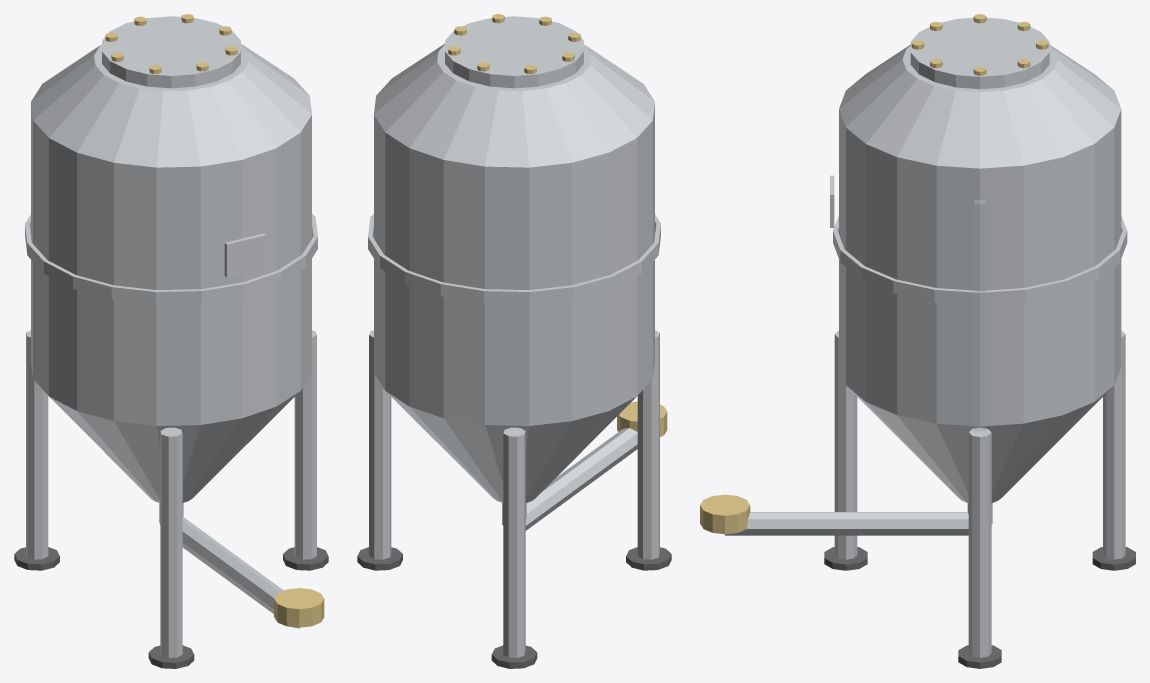
Rendered from distillery-and-bonded-warehouse-yeast-vessel-b319a099__38674.glb.
3 renders of one model, left to right at view 1: azimuth 30°, elevation 25°; view 2: azimuth 150°, elevation 25°; view 3: azimuth 270°, elevation 25°, orthographic.
Parts seen in each view (by area): view 1: yeast-vessel-steel, yeast-vessel-brass, yeast-vessel-iron; view 2: yeast-vessel-steel, yeast-vessel-iron, yeast-vessel-brass; view 3: yeast-vessel-steel, yeast-vessel-glass, yeast-vessel-brass, yeast-vessel-iron.
Part boxes in pixels (left/top/right/bottom): yeast-vessel-steel: left=25, top=16, right=317, bottom=657; yeast-vessel-brass: left=105, top=14, right=324, bottom=627; yeast-vessel-iron: left=14, top=547, right=328, bottom=668; yeast-vessel-steel: left=368, top=16, right=660, bottom=657; yeast-vessel-iron: left=357, top=547, right=671, bottom=668; yeast-vessel-brass: left=448, top=14, right=667, bottom=436; yeast-vessel-steel: left=725, top=17, right=1127, bottom=657; yeast-vessel-glass: left=974, top=199, right=985, bottom=430; yeast-vessel-brass: left=700, top=14, right=1048, bottom=534; yeast-vessel-iron: left=824, top=547, right=1135, bottom=668.
Size of the model in its own units: 1.43 by 2.67 by 1.91.
